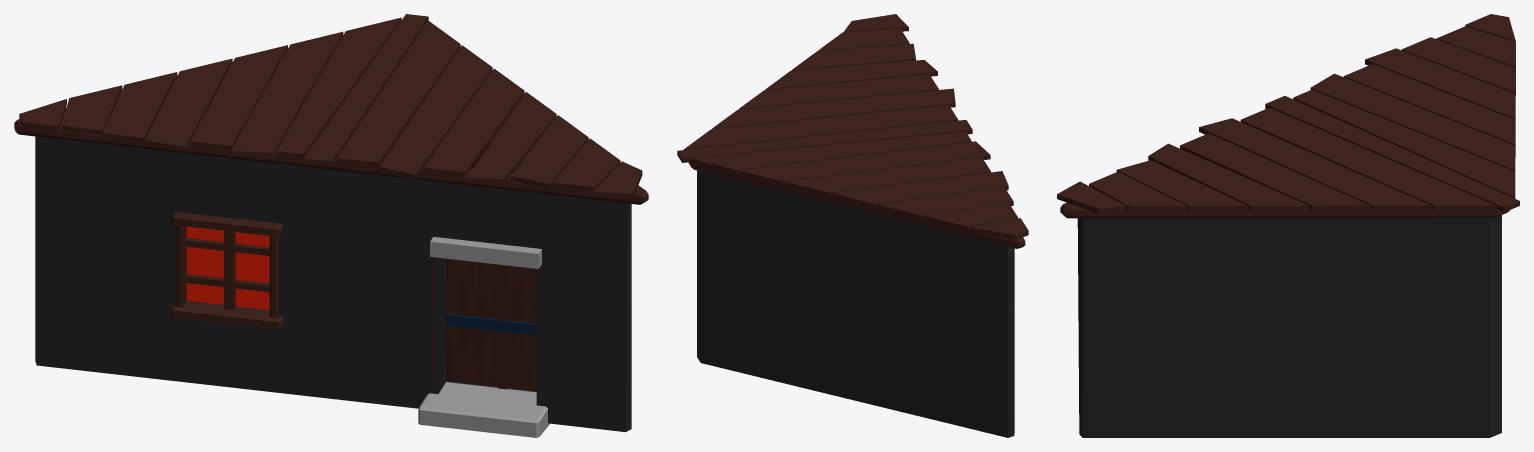
The model's file is civilian_house_40_a.FBX.
3 renders of one model, left to right at view 1: azimuth 30°, elevation 25°; view 2: azimuth 150°, elevation 25°; view 3: azimuth 270°, elevation 25°, orthographic. The views are drawn at different scales.
Visible parts, largest first — view 1: civilian_house_40_a; view 2: civilian_house_40_a; view 3: civilian_house_40_a.
Part boxes in pixels (<box>): civilian_house_40_a: <box>14,14,648,437</box>; civilian_house_40_a: <box>677,14,1028,437</box>; civilian_house_40_a: <box>1057,14,1519,437</box>.
Bounding box in the file's own units: 644 × 374 × 644.
